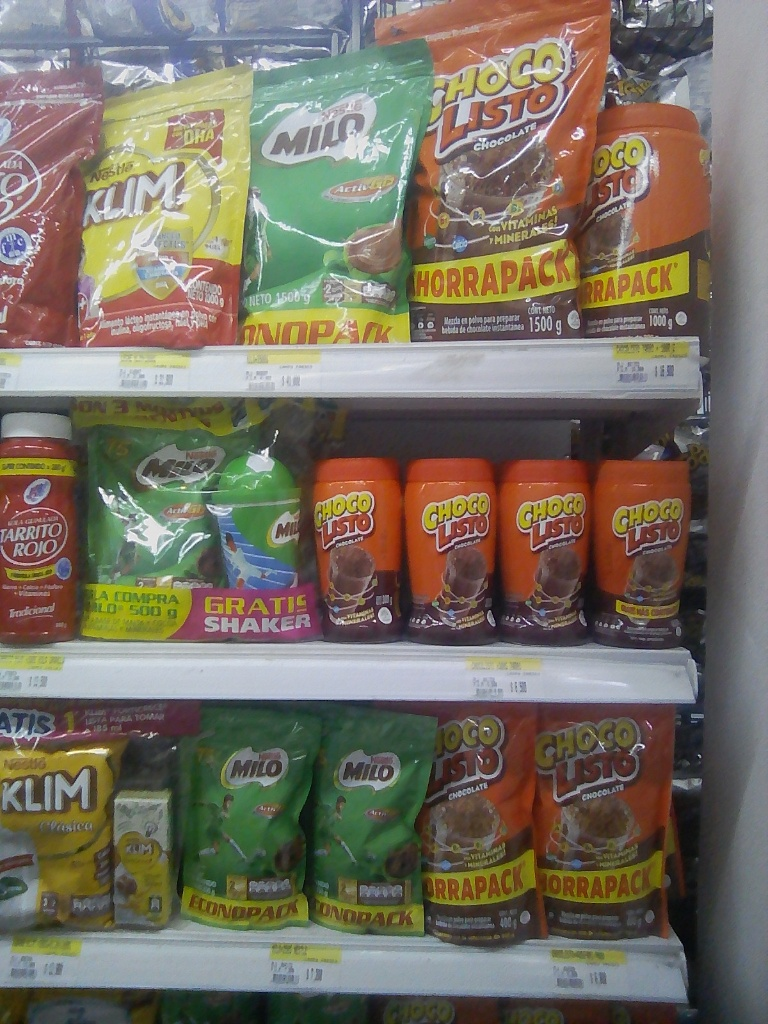COL0170103DYP1,500: (396, 2, 605, 342)
COL0170103DYP40000: (418, 705, 547, 941)
COL0170103TRR00100: (605, 105, 715, 339)
COL0170103TRR30000: (304, 454, 406, 644)
COL0170203DYP25000: (294, 720, 437, 937)
COL0170203DYP50000: (76, 403, 231, 650)
